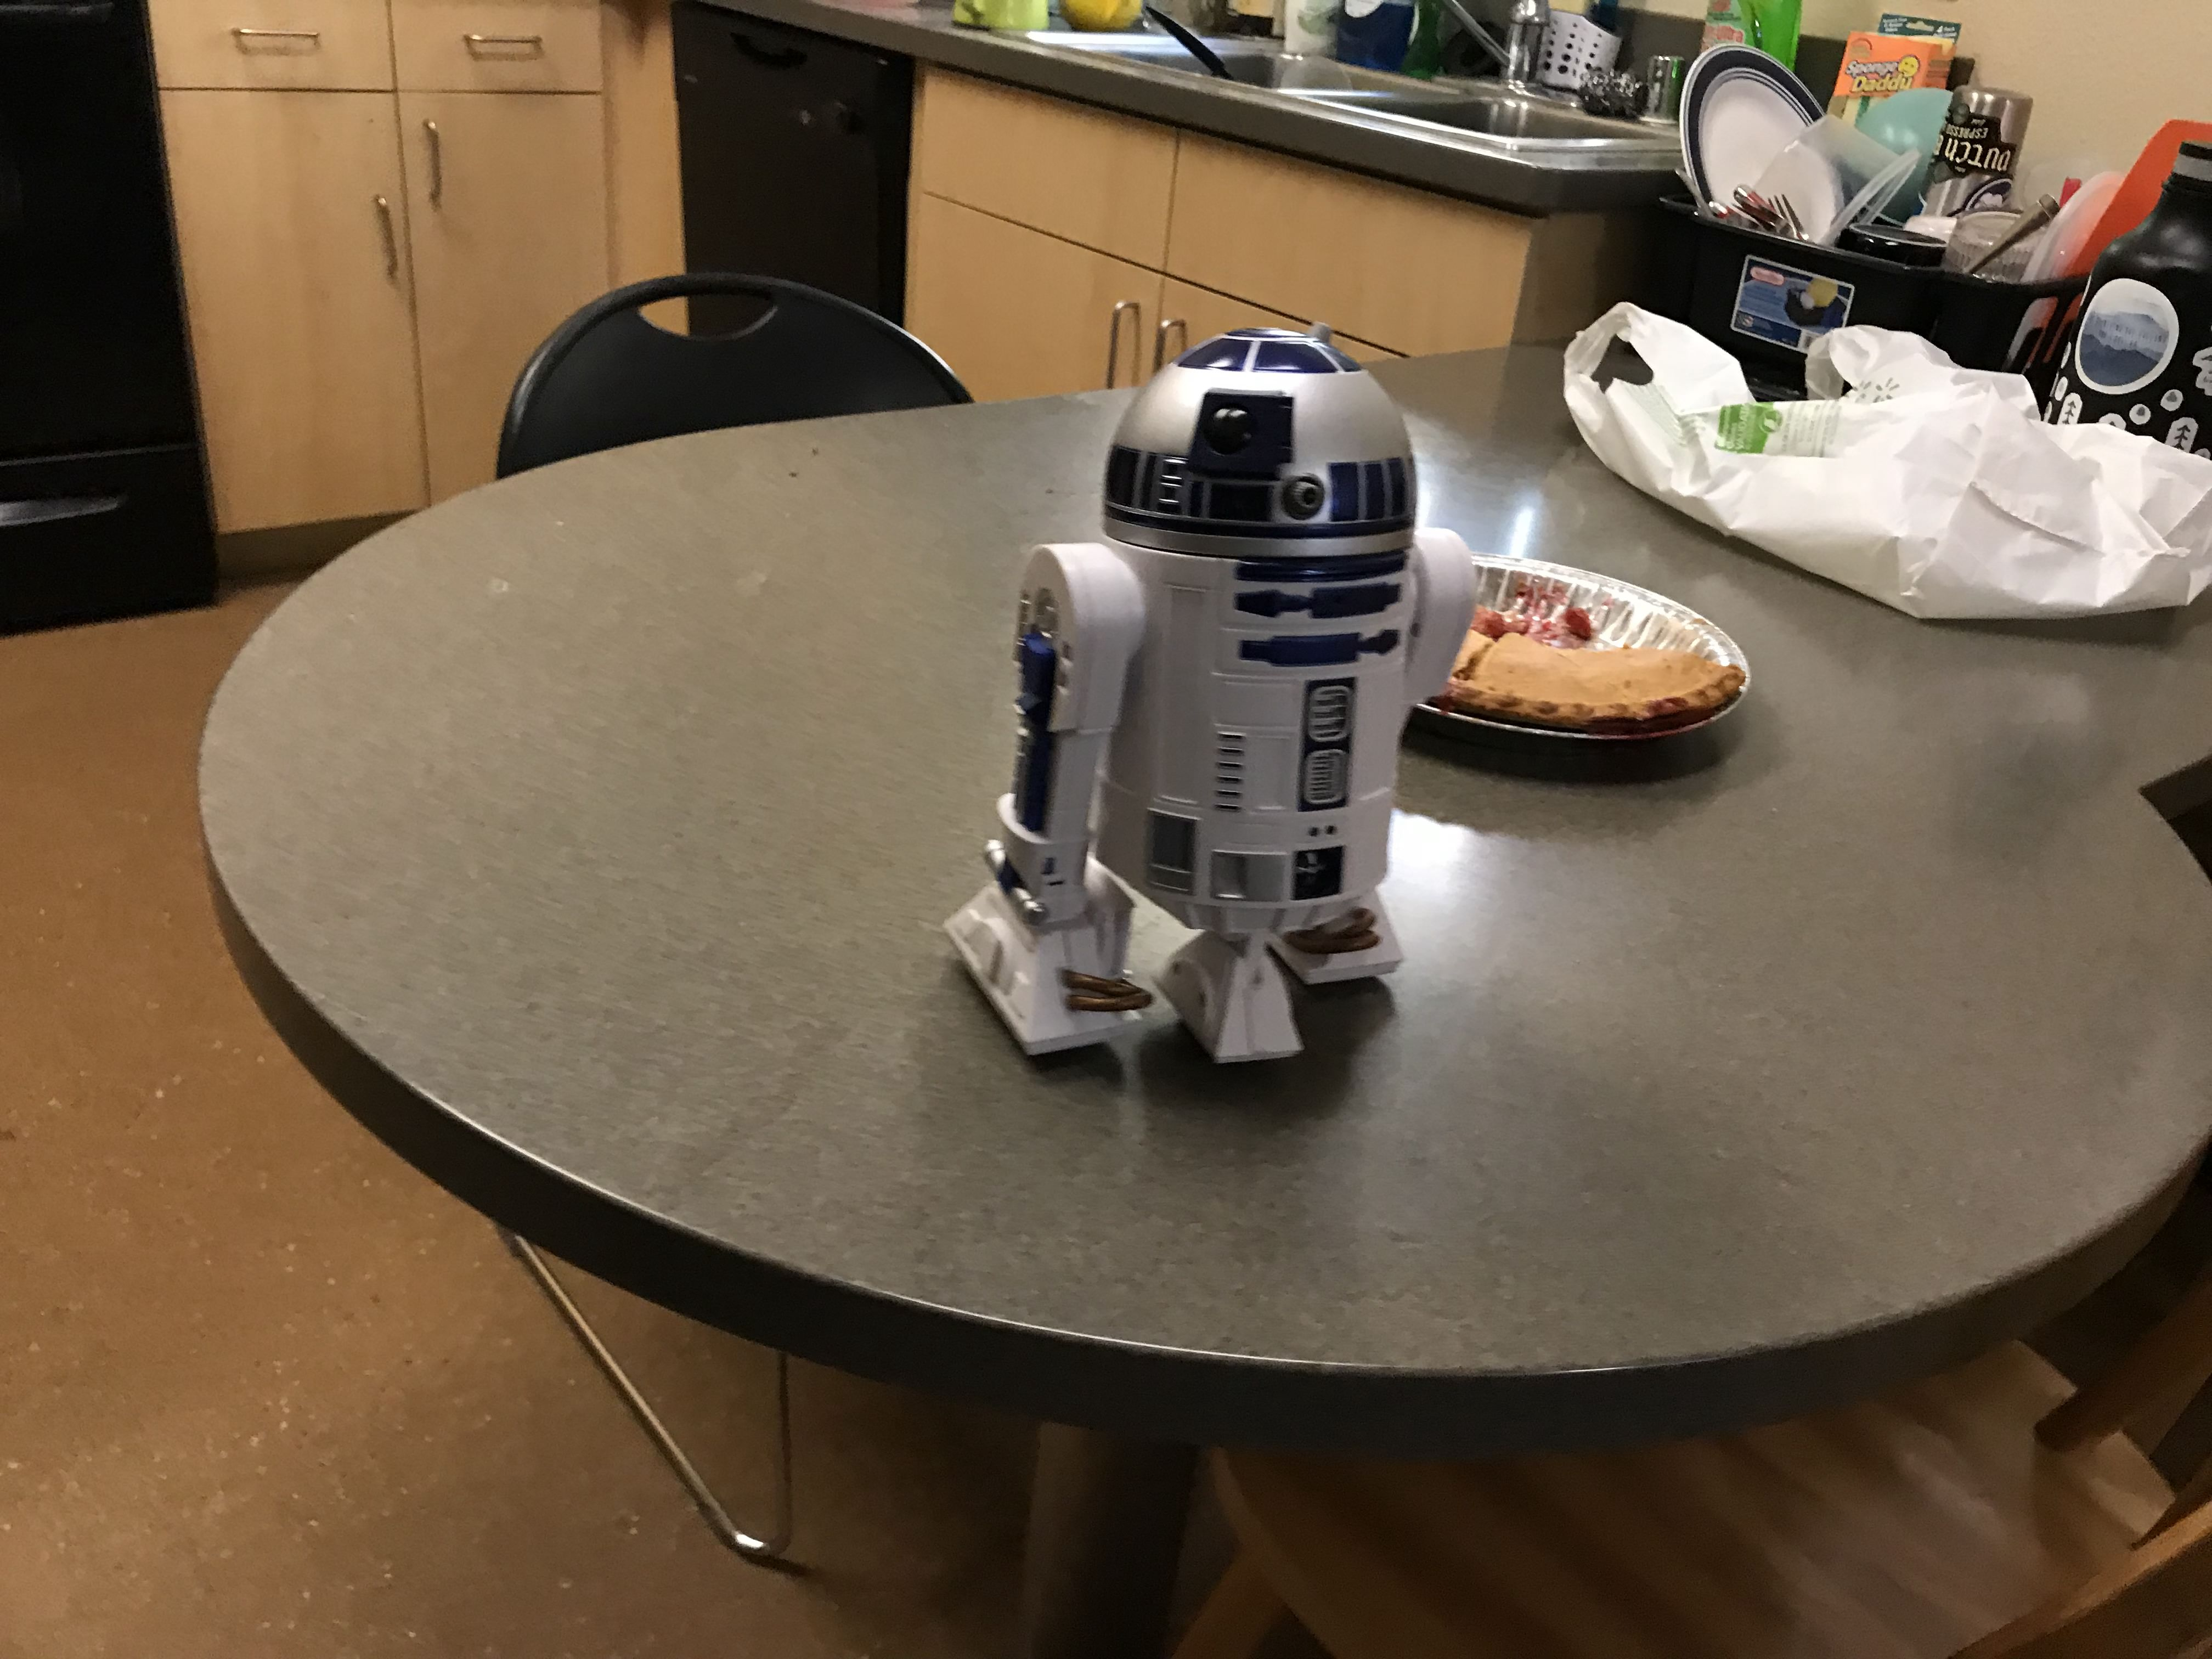r2d2: (946, 321, 1479, 1068)
